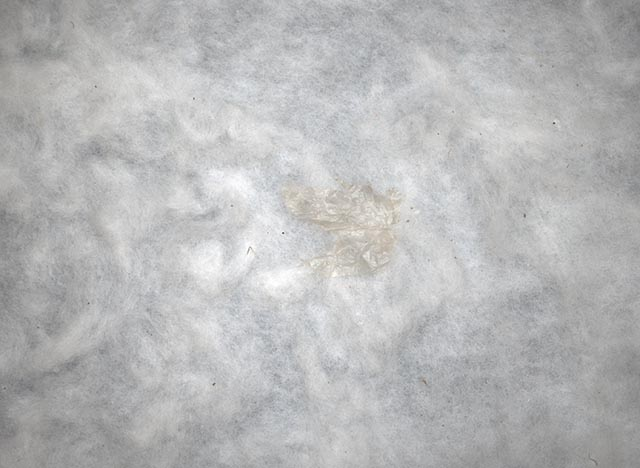plastic film: (280, 169, 405, 281)
